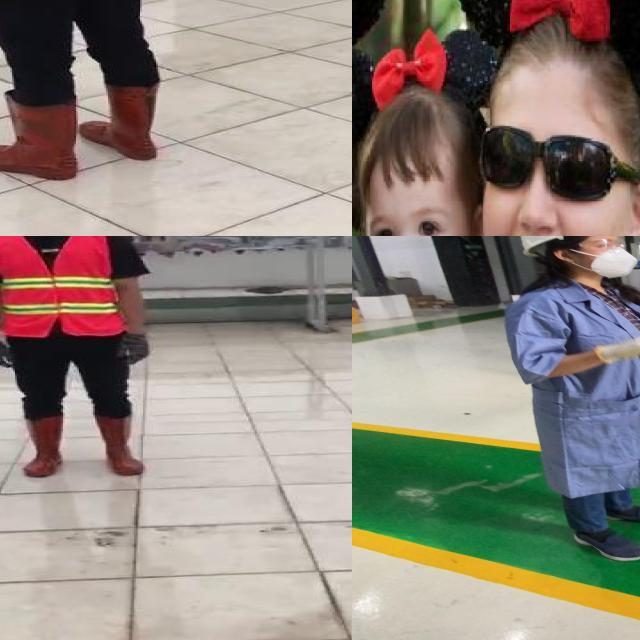No_Ear-Protection: (624, 174, 640, 236)
boots: (0, 92, 82, 182), (84, 78, 169, 162), (93, 414, 147, 477), (21, 417, 68, 478)
face_mask: (571, 236, 640, 283)
face_nomask: (478, 122, 614, 236), (368, 211, 457, 236)
glasses: (473, 120, 630, 208), (573, 237, 625, 252)
hand_glove: (599, 332, 640, 363), (118, 334, 150, 366), (0, 342, 18, 373)
head_helmet: (516, 236, 630, 249)
head_nohelmet: (481, 21, 640, 104), (360, 85, 463, 187)
person: (489, 236, 640, 577), (0, 236, 159, 483), (0, 0, 187, 184)
shoes: (557, 516, 640, 565), (585, 500, 640, 529)
vest: (0, 236, 123, 338)
